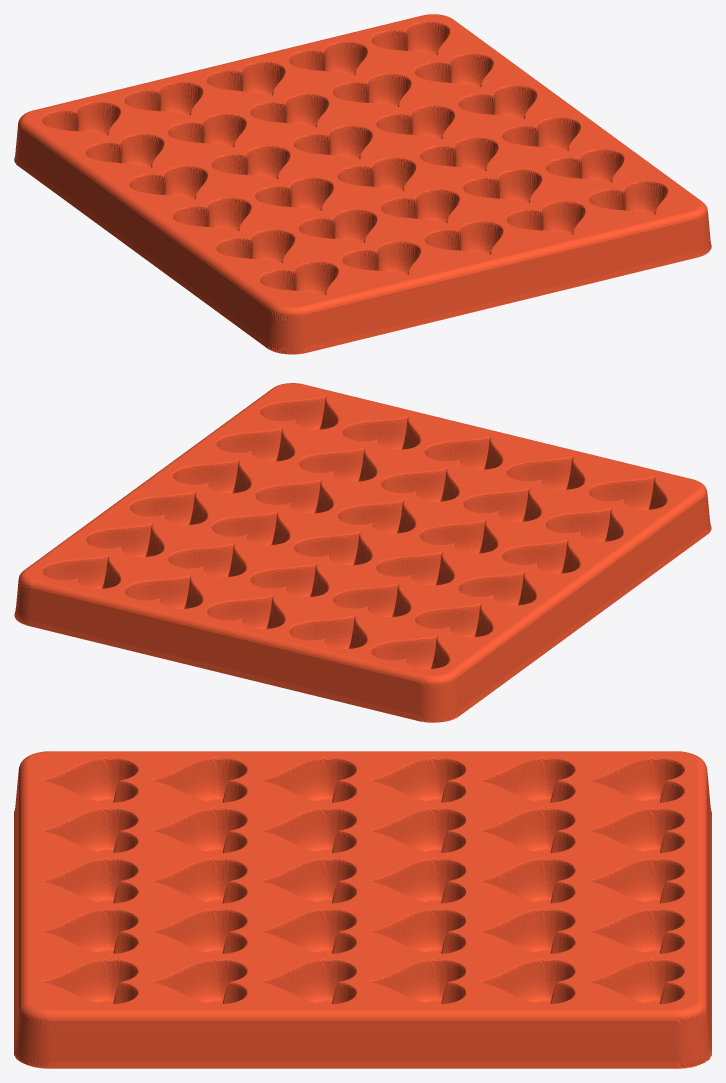
Rendered from mold.glb.
The picture shows the model from 3 angles, top to bottom: view 1: azimuth 30°, elevation 25°; view 2: azimuth 150°, elevation 25°; view 3: azimuth 270°, elevation 25°; orthographic projection. The views are drawn at different scales.
Visible parts, largest first — view 1: geometry_0; view 2: geometry_0; view 3: geometry_0.
Boxes of the visible parts, box(x1,y1,x2,y2) form: geometry_0: box(14, 14, 711, 354); geometry_0: box(14, 383, 711, 722); geometry_0: box(14, 751, 711, 1068).
Bounding box in the file's own units: 0.1578 × 0.0145 × 0.1726.
